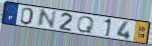0: (20, 7, 35, 25)
1: (104, 19, 113, 38)
2: (59, 12, 75, 33)
4: (117, 20, 133, 41)
N: (36, 8, 58, 29)
Q: (75, 16, 96, 34)
